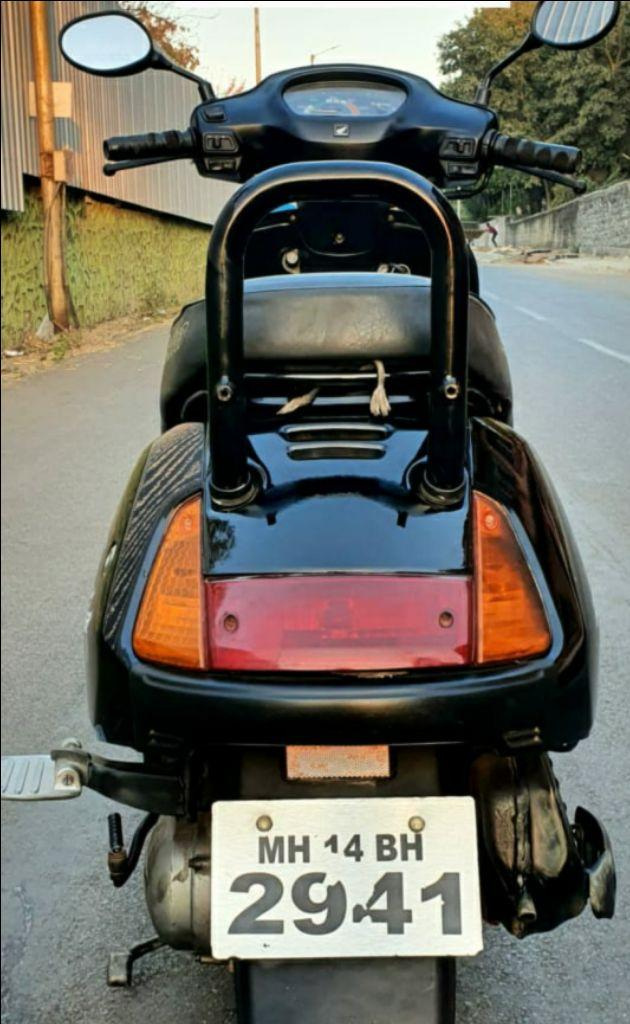doublelinenumberplate: (205, 797, 489, 963)
